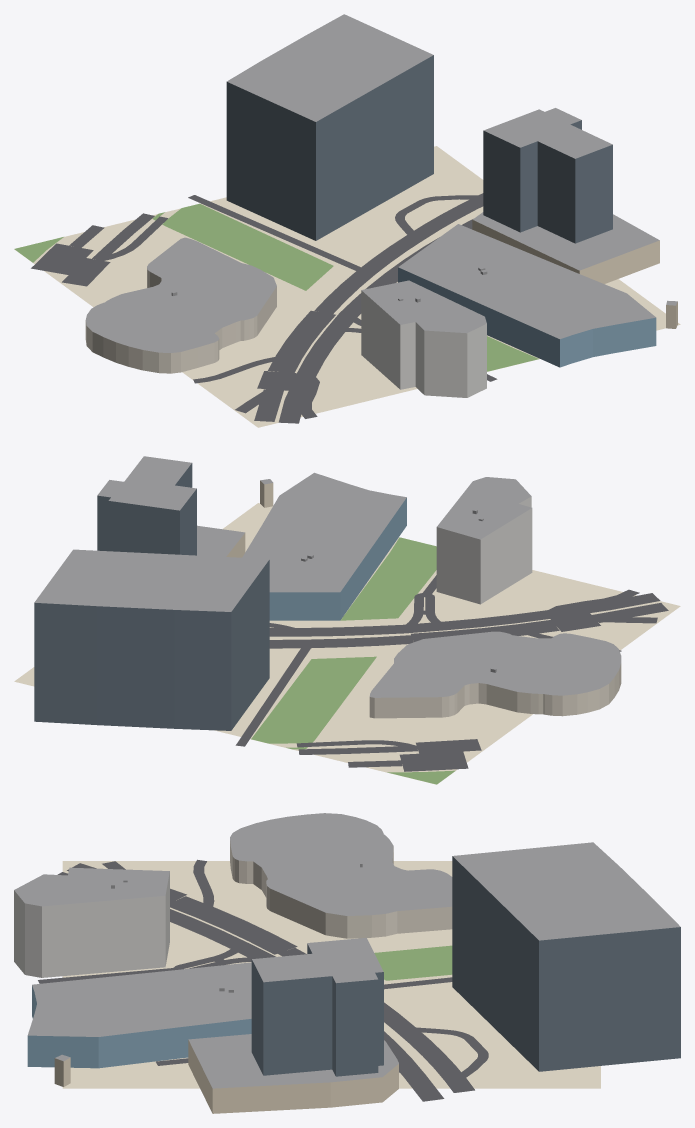
The model's file is tile_-5_5_far.glb.
The picture shows the model from 3 angles, top to bottom: view 1: azimuth 30°, elevation 25°; view 2: azimuth 150°, elevation 25°; view 3: azimuth 270°, elevation 25°; orthographic projection. The views are drawn at different scales.
Visible parts, largest first — view 1: buildings_roof, buildings_glass_dark, nature_ground, roads_asphalt, buildings_concrete_light, nature_grass, buildings_glass_blue, buildings_concrete_warm, buildings_sandstone; view 2: buildings_roof, buildings_glass_dark, nature_ground, roads_asphalt, nature_grass, buildings_concrete_light, buildings_concrete_warm, buildings_glass_blue, buildings_sandstone; view 3: buildings_roof, buildings_glass_dark, nature_ground, buildings_concrete_light, roads_asphalt, buildings_glass_blue, buildings_sandstone, buildings_concrete_warm, nature_grass.
Boxes of the visible parts, x1,y1,x2,y2 form: buildings_roof: (86, 14, 677, 352); buildings_glass_dark: (226, 55, 612, 243); nature_ground: (14, 146, 680, 427); roads_asphalt: (31, 193, 497, 423); buildings_concrete_light: (361, 290, 486, 397); nature_grass: (14, 203, 538, 371); buildings_glass_blue: (398, 267, 656, 367); buildings_concrete_warm: (85, 268, 276, 373); buildings_sandstone: (472, 220, 677, 328); buildings_roof: (34, 456, 621, 697); buildings_glass_dark: (34, 463, 269, 730); nature_ground: (14, 503, 680, 784); roads_asphalt: (235, 575, 668, 771); nature_grass: (251, 537, 455, 784); buildings_concrete_light: (436, 496, 532, 604); buildings_concrete_warm: (369, 663, 621, 718); buildings_glass_blue: (269, 498, 406, 620); buildings_sandstone: (226, 480, 273, 557); buildings_roof: (14, 813, 680, 1088); buildings_glass_dark: (251, 856, 680, 1076); nature_ground: (62, 861, 600, 1088); buildings_concrete_light: (14, 871, 169, 977); roads_asphalt: (38, 859, 488, 1101); buildings_glass_blue: (27, 985, 251, 1068); buildings_sandstone: (54, 1040, 398, 1113); buildings_concrete_warm: (230, 841, 452, 938); nature_grass: (374, 945, 452, 980).
Size of the model in its own units: 306 by 67.3 by 310.
